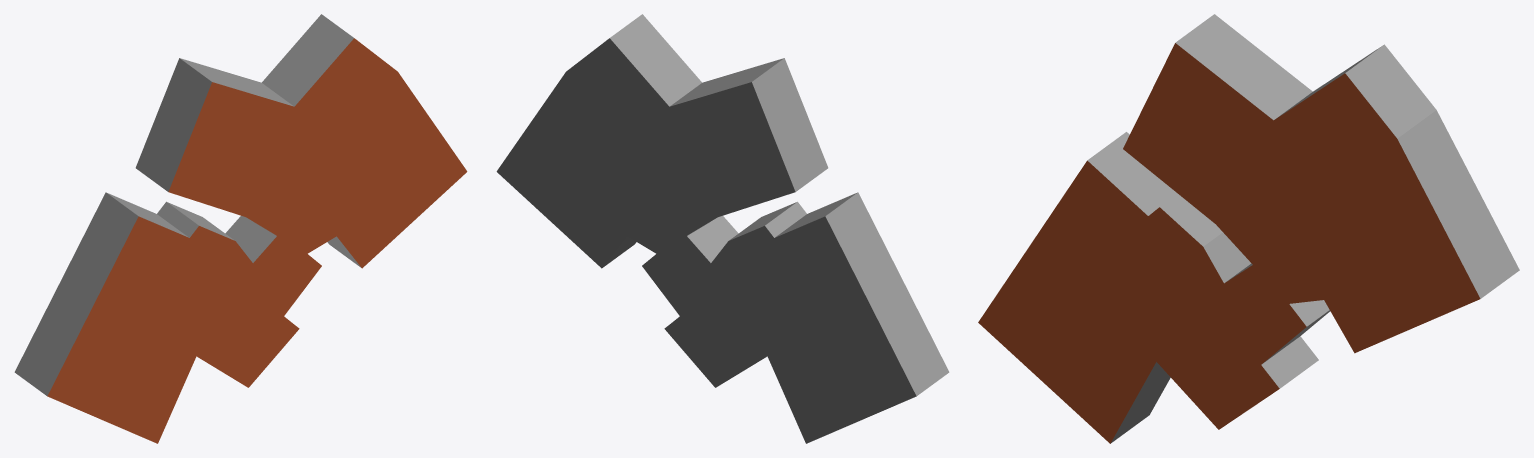
The model's file is construction_1870_assumed_A_Casa_h6m.obj.
3 views of the same model, side by side, from view 1: azimuth 30°, elevation 25°; view 2: azimuth 150°, elevation 25°; view 3: azimuth 330°, elevation 25° (orthographic). The views are drawn at different scales.
Parts seen in each view (by area): view 1: construction_1870_assumed_A_Casa; view 2: construction_1870_assumed_A_Casa; view 3: construction_1870_assumed_A_Casa.
Boxes of the visible parts, x1,y1,x2,y2 form: construction_1870_assumed_A_Casa: (14,14,467,443); construction_1870_assumed_A_Casa: (496,14,949,443); construction_1870_assumed_A_Casa: (978,14,1519,443).
Bounding box in the file's own units: 44.28 × 36.05 × 6.
